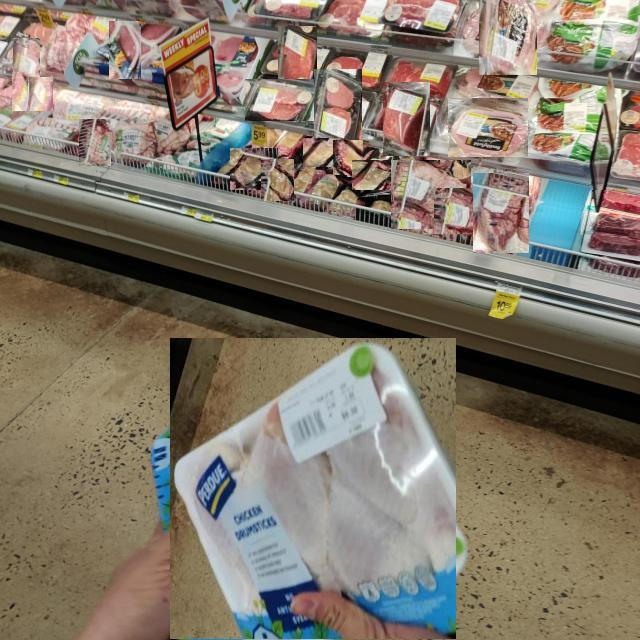Meat: (170, 337, 456, 640), (391, 161, 471, 229), (447, 98, 528, 157), (472, 173, 529, 253), (478, 0, 537, 75), (582, 190, 639, 254), (314, 69, 362, 145), (383, 81, 430, 156), (244, 79, 314, 121), (278, 25, 317, 96), (322, 46, 392, 85), (433, 188, 492, 234), (229, 147, 278, 190), (111, 123, 158, 166), (24, 118, 82, 152), (110, 20, 141, 79), (299, 175, 347, 210), (78, 119, 111, 166), (260, 159, 294, 201), (351, 159, 392, 190), (13, 38, 40, 81), (302, 138, 342, 167), (332, 140, 363, 177), (30, 77, 53, 111), (11, 72, 28, 111)
